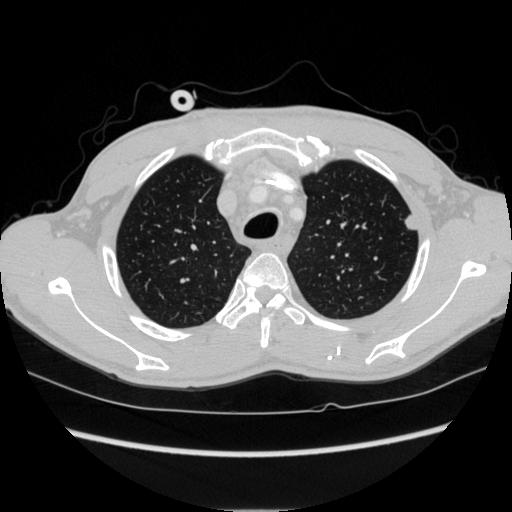nodule: (402, 214, 420, 232)
